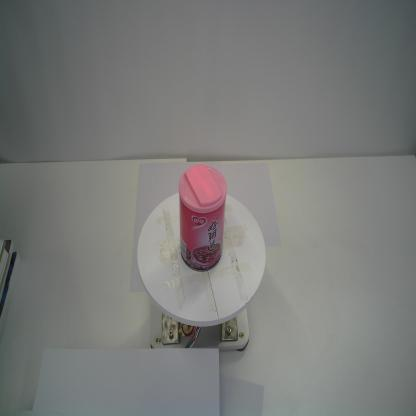Canned Food: (176, 159, 228, 273)
